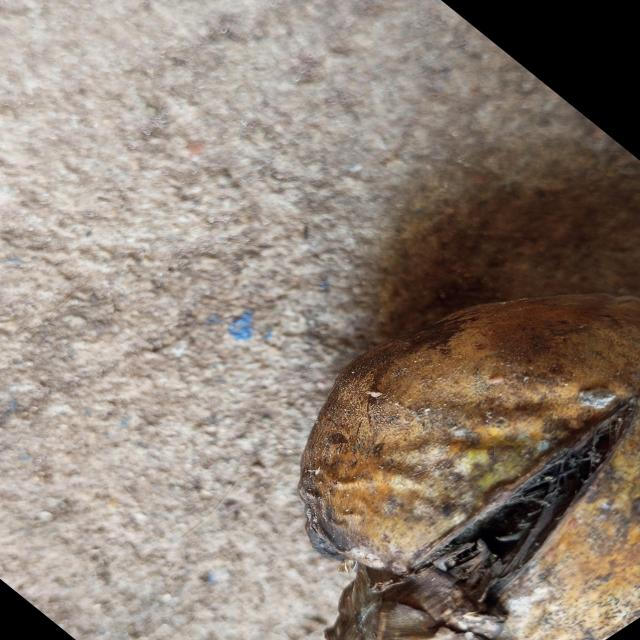damaged: (299, 294, 640, 640)
